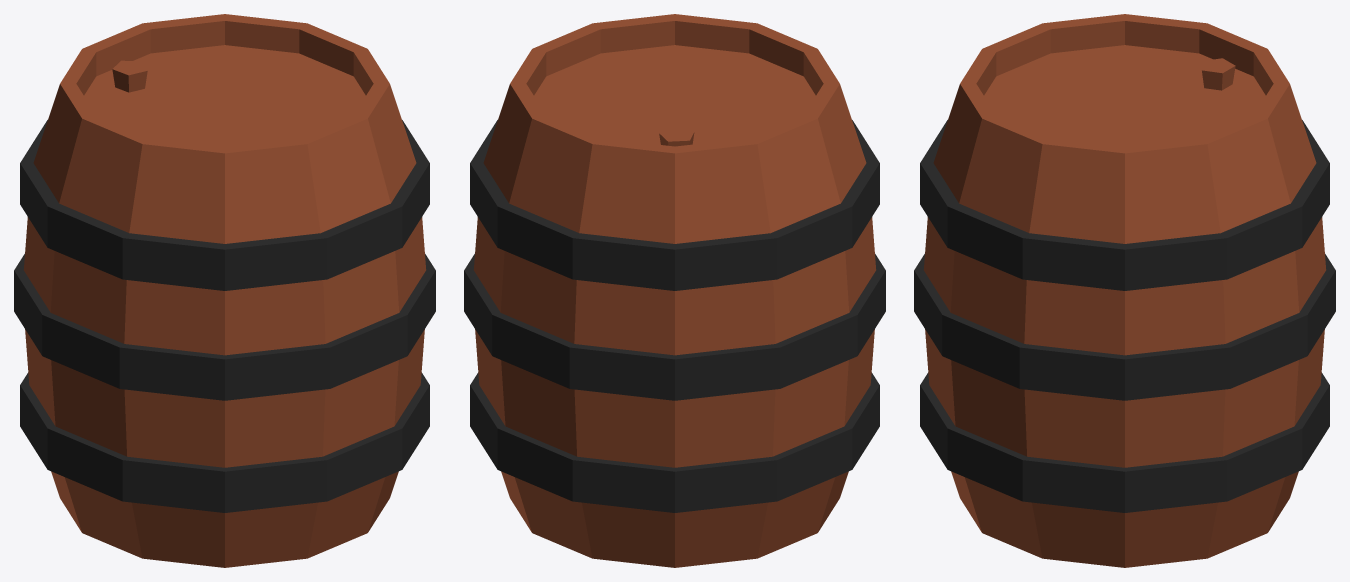
Rendered from barrel.glb.
The picture shows the model from 3 angles, left to right: view 1: azimuth 30°, elevation 25°; view 2: azimuth 150°, elevation 25°; view 3: azimuth 270°, elevation 25°; orthographic projection.
Parts seen in each view (by area): view 1: Cylinder, Cylinder.001, Cylinder.003, Cylinder.002, Cylinder.004; view 2: Cylinder, Cylinder.001, Cylinder.003, Cylinder.002, Cylinder.004; view 3: Cylinder, Cylinder.001, Cylinder.003, Cylinder.002, Cylinder.004.
Part boxes in pixels (x1=…): Cylinder: x1=23, y1=14, x2=426, y2=567; Cylinder.001: x1=20, y1=120, x2=429, y2=290; Cylinder.003: x1=14, y1=254, x2=435, y2=400; Cylinder.002: x1=20, y1=372, x2=429, y2=512; Cylinder.004: x1=112, y1=60, x2=147, y2=92; Cylinder: x1=473, y1=14, x2=876, y2=567; Cylinder.001: x1=470, y1=120, x2=879, y2=290; Cylinder.003: x1=464, y1=254, x2=885, y2=400; Cylinder.002: x1=470, y1=372, x2=879, y2=512; Cylinder.004: x1=659, y1=127, x2=694, y2=146; Cylinder: x1=923, y1=14, x2=1326, y2=567; Cylinder.001: x1=920, y1=120, x2=1329, y2=290; Cylinder.003: x1=914, y1=254, x2=1335, y2=400; Cylinder.002: x1=920, y1=372, x2=1329, y2=512; Cylinder.004: x1=1201, y1=58, x2=1235, y2=90.
Bounding box in the file's own units: 5.43 × 5.89 × 5.43.
